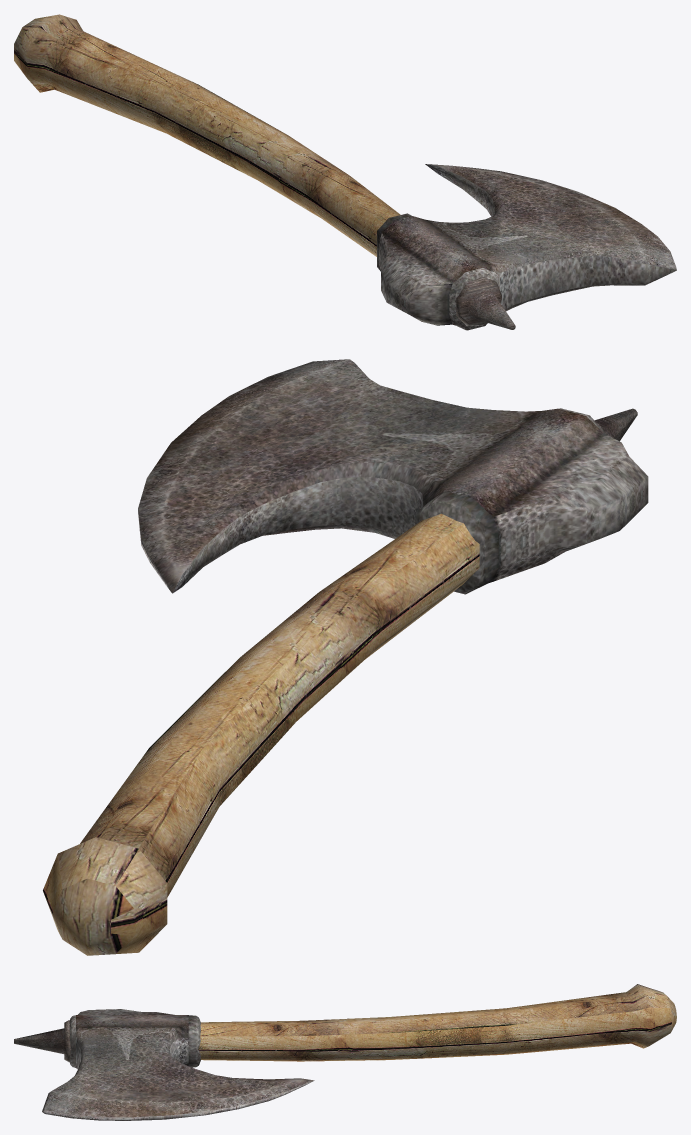
Rendered from 1h_axe.obj.
The picture shows the model from 3 angles, top to bottom: view 1: azimuth 30°, elevation 25°; view 2: azimuth 150°, elevation 25°; view 3: azimuth 270°, elevation 25°; orthographic projection. The views are drawn at different scales.
Visible parts, largest first — view 1: object; view 2: object; view 3: object.
Boxes of the visible parts, x1,y1,x2,y2 form: object: [14, 14, 676, 330]; object: [43, 359, 648, 955]; object: [14, 984, 676, 1120].
Size of the model in its own units: 69.69 by 16.7 by 170.
